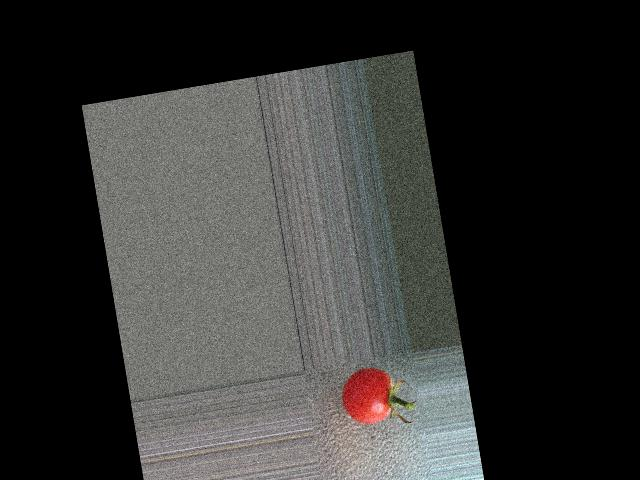tomato: (337, 365, 397, 429)
